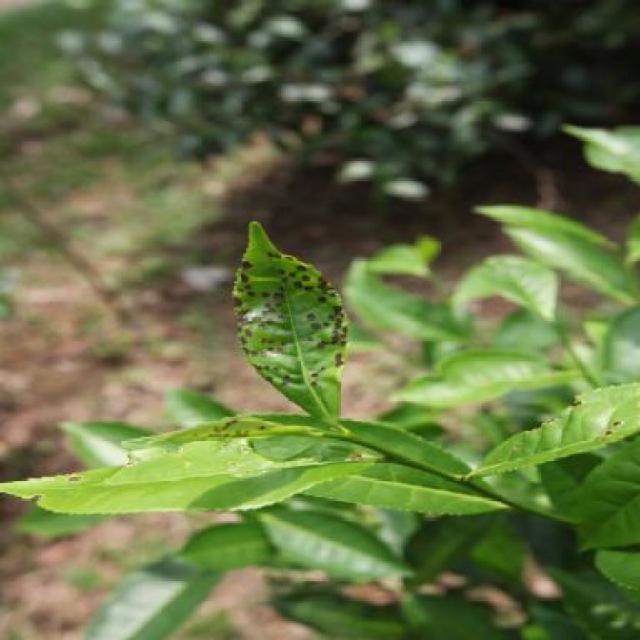Tea Mosquito bug infested leaf: (212, 217, 358, 421)
